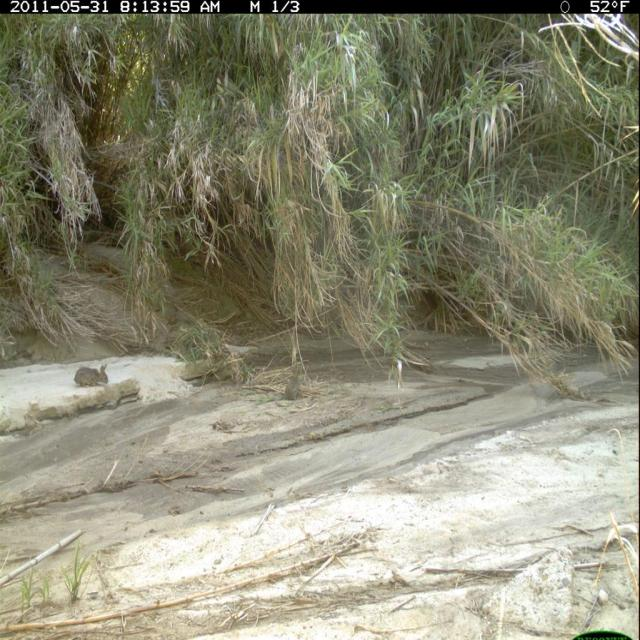rabbit: (72, 356, 116, 397), (282, 360, 308, 408)
